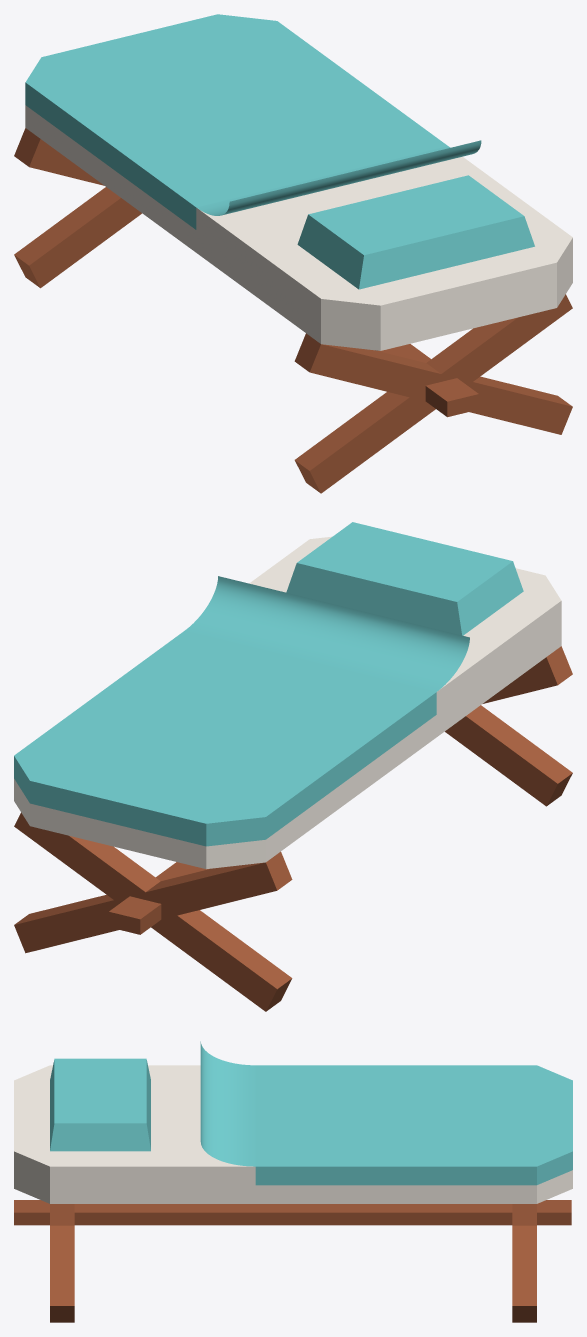
The model's file is bed.glb.
The picture shows the model from 3 angles, top to bottom: view 1: azimuth 30°, elevation 25°; view 2: azimuth 150°, elevation 25°; view 3: azimuth 270°, elevation 25°; orthographic projection. The views are drawn at different scales.
Visible parts, largest first — view 1: bed; view 2: bed; view 3: bed.
Part boxes in pixels (x1=…): bed: x1=14, y1=14, x2=572, y2=493; bed: x1=14, y1=522, x2=572, y2=1011; bed: x1=14, y1=1041, x2=572, y2=1322.
Bounding box in the file's own units: 0.3349 × 0.2737 × 0.7473.
